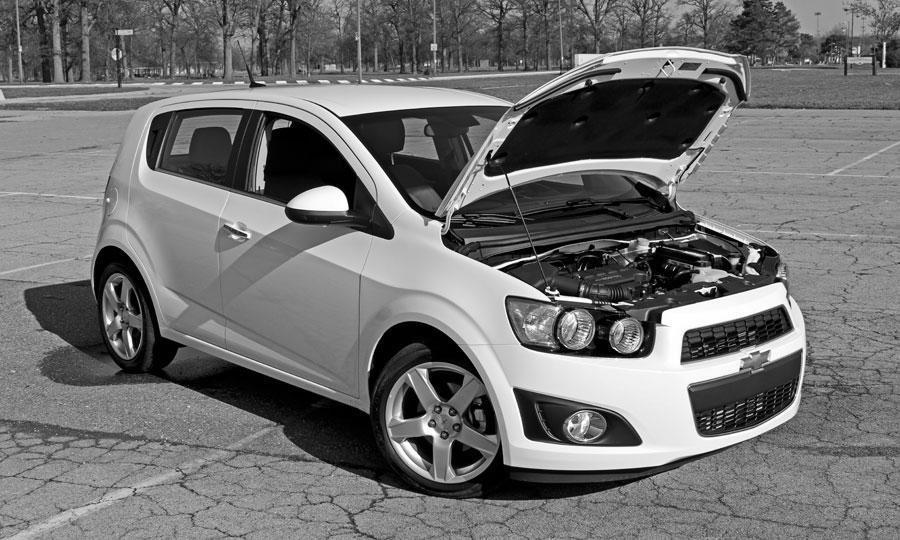car: (90, 47, 807, 499)
